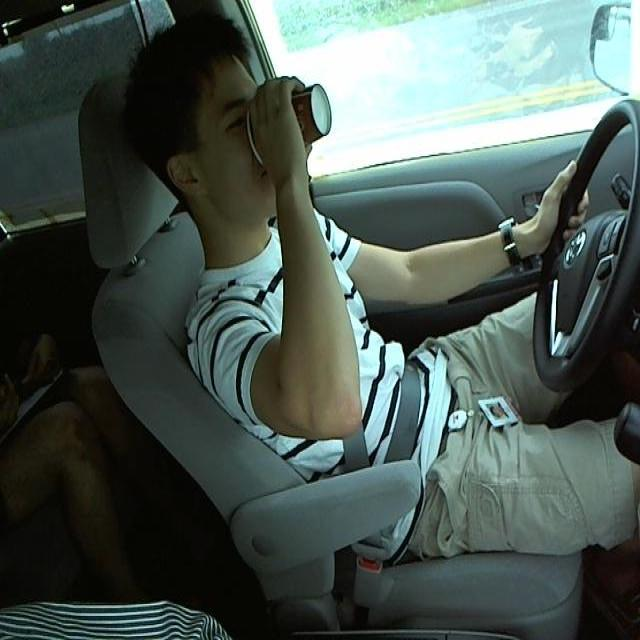Seatbelt: (249, 81, 331, 160)
